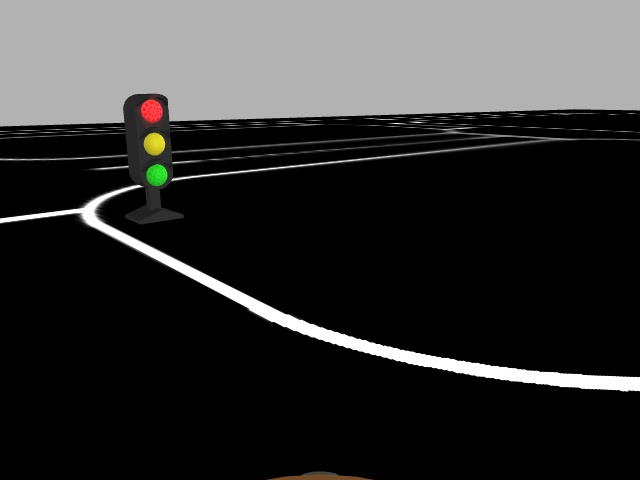red_light: (131, 93, 176, 192)
